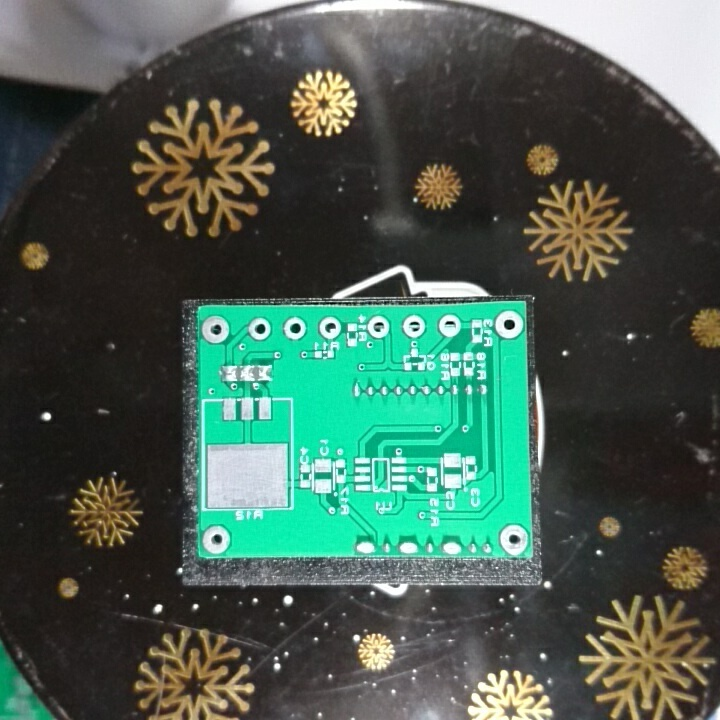F: (497, 523, 532, 555), (200, 524, 234, 556), (199, 312, 231, 346), (493, 307, 525, 341), (399, 312, 428, 340), (364, 312, 391, 342), (246, 315, 274, 343), (279, 315, 308, 342), (436, 312, 463, 339), (317, 315, 342, 341)
P: (353, 538, 379, 557), (439, 538, 464, 556), (397, 538, 420, 555)
